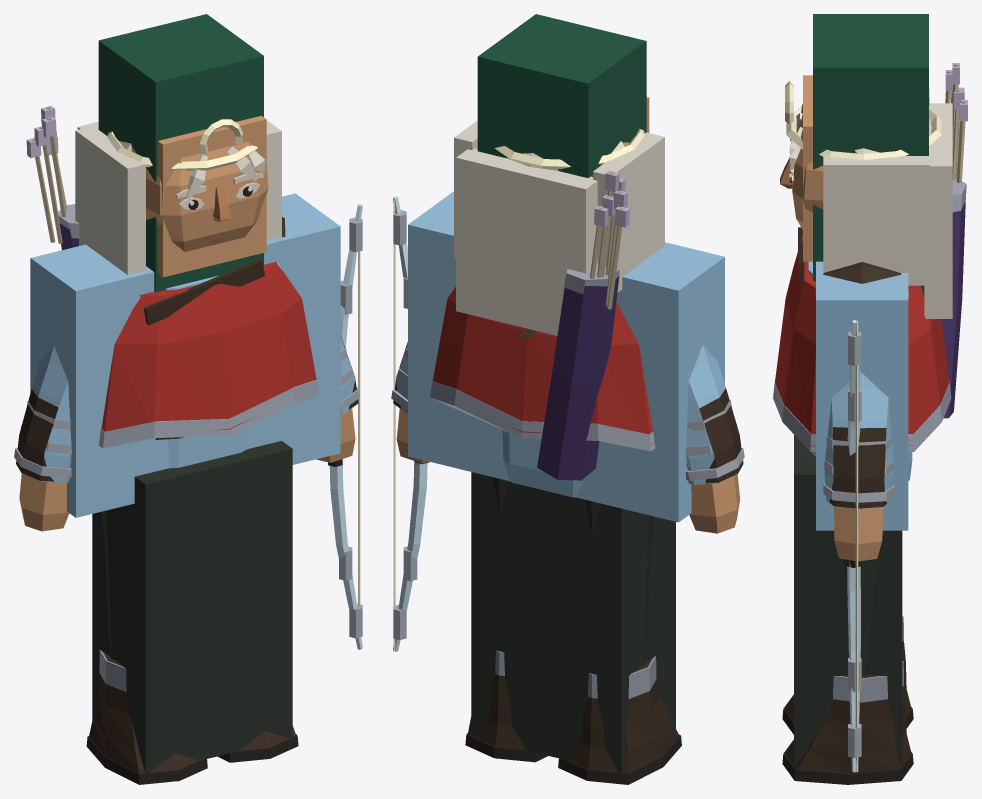
File: kadro-isikay.obj
3 views of the same model, side by side, from view 1: azimuth 30°, elevation 25°; view 2: azimuth 150°, elevation 25°; view 3: azimuth 270°, elevation 25° (orthographic). The views are drawn at different scales.
Parts seen in each view (by area): view 1: okyeli-uzak-bacak, okyeli-uzak-govde, okyeli-pelerin-destansi-efsanevi, okyeli-uzak-baslik, isikay-uzun-sac, okyeli-kafa, okyeli-uzak-kafa, okyeli-cizmeler, okyeli-pelerin-kenari-destansi-efsanevi, okyeli-kollar, okyeli-eller, okyeli-cizme-tabani (+13 smaller); view 2: okyeli-uzak-bacak, okyeli-uzak-govde, isikay-uzun-sac, okyeli-uzak-baslik, okyeli-pelerin-destansi-efsanevi, okyeli-sadak-destansi-efsanevi, okyeli-cizmeler, okyeli-pelerin-kenari-destansi-efsanevi, okyeli-kollar, okyeli-eller, okyeli-bacaklar, okyeli-govde (+11 smaller); view 3: isikay-uzun-sac, okyeli-uzak-bacak, okyeli-uzak-baslik, okyeli-uzak-govde, okyeli-pelerin-destansi-efsanevi, okyeli-cizmeler, okyeli-bileklikler, okyeli-kollar, okyeli-sadak-destansi-efsanevi, okyeli-eller, okyeli-yay-destansi-efsanevi, okyeli-cizme-tabani (+15 smaller).
Boxes of the visible parts, x1,y1,x2,y2 form: okyeli-uzak-bacak: (92, 441, 292, 773); okyeli-uzak-govde: (30, 193, 340, 517); okyeli-pelerin-destansi-efsanevi: (99, 261, 316, 442); okyeli-uzak-baslik: (98, 14, 263, 292); isikay-uzun-sac: (75, 120, 281, 274); okyeli-kafa: (131, 142, 268, 251); okyeli-uzak-kafa: (158, 115, 266, 277); okyeli-cizmeler: (89, 651, 295, 773); okyeli-pelerin-kenari-destansi-efsanevi: (98, 379, 319, 448); okyeli-kollar: (22, 262, 357, 482); okyeli-eller: (19, 408, 355, 531); okyeli-cizme-tabani: (86, 734, 298, 784); okyeli-uzak-bacak: (471, 472, 675, 773); okyeli-uzak-govde: (408, 191, 724, 522); isikay-uzun-sac: (454, 120, 664, 335); okyeli-uzak-baslik: (477, 14, 646, 177); okyeli-pelerin-destansi-efsanevi: (432, 286, 654, 445); okyeli-sadak-destansi-efsanevi: (537, 276, 619, 480); okyeli-cizmeler: (467, 658, 679, 773); okyeli-pelerin-kenari-destansi-efsanevi: (430, 381, 655, 451); okyeli-kollar: (394, 301, 737, 484); okyeli-eller: (396, 408, 740, 533); okyeli-bacaklar: (492, 477, 653, 666); okyeli-govde: (502, 430, 583, 497); isikay-uzun-sac: (823, 88, 952, 318); okyeli-uzak-bacak: (794, 435, 902, 767); okyeli-uzak-baslik: (813, 14, 928, 296); okyeli-uzak-govde: (816, 261, 908, 530); okyeli-pelerin-destansi-efsanevi: (773, 235, 950, 445); okyeli-cizmeler: (784, 641, 911, 773); okyeli-bileklikler: (829, 427, 886, 508); okyeli-kollar: (815, 290, 909, 509); okyeli-sadak-destansi-efsanevi: (941, 201, 965, 418); okyeli-eller: (834, 507, 883, 561); okyeli-yay-destansi-efsanevi: (847, 320, 860, 772); okyeli-cizme-tabani: (782, 694, 913, 784).
Size of the model in its own units: 22.49 by 43.6 by 10.99.
